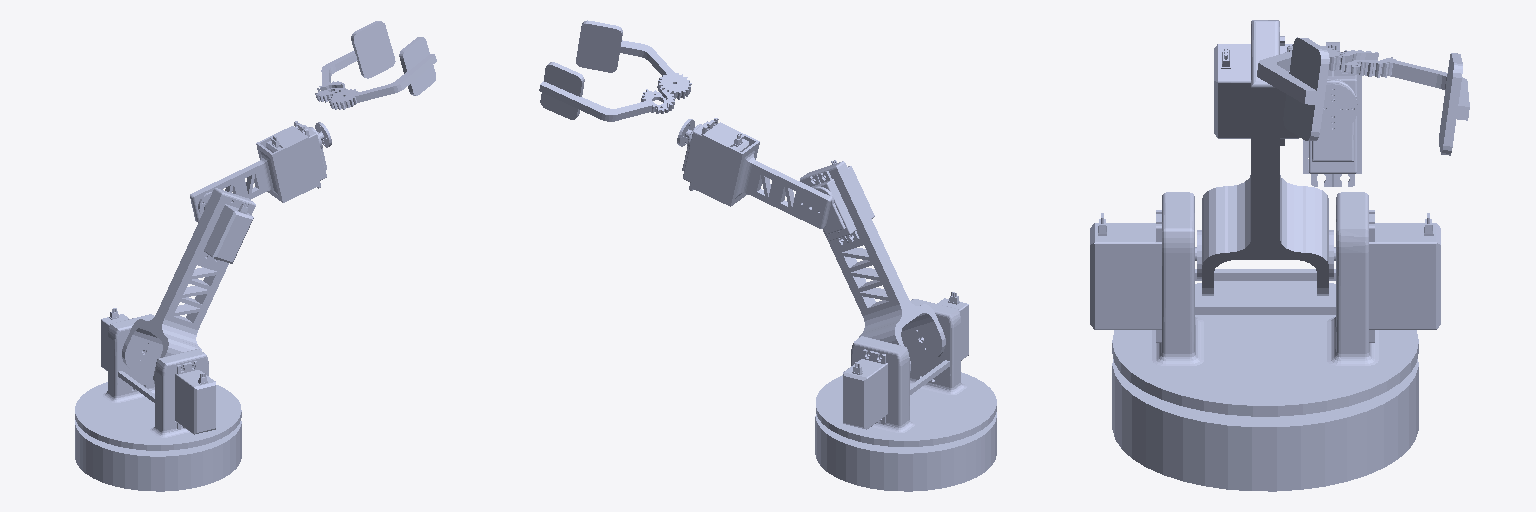
robot.urdf — URDF_Final_Assembly:
<?xml version="1.0" encoding="utf-8"?>
<!-- This URDF was automatically created by SolidWorks to URDF Exporter! Originally created by Stephen Brawner (brawner@gmail.com) 
     Commit Version: 1.6.0-4-g7f85cfe  Build Version: 1.6.7995.38578
     For more information, please see http://wiki.ros.org/sw_urdf_exporter -->
<robot
  name="URDF_Final_Assembly">
  <link
    name="Fixed_Base">
    <inertial>
      <origin
        xyz="7.12857296924816E-18 2.11519513285623E-18 -0.015"
        rpy="0 0 0" />
      <mass
        value="0.398196868842506" />
      <inertia
        ixx="0.000450460207878085"
        ixy="-1.35525271560688E-20"
        ixz="6.18071095602212E-21"
        iyy="0.000450460207878085"
        iyz="-7.16361577712324E-20"
        izz="0.000841190885429794" />
    </inertial>
    <visual>
      <origin
        xyz="0 0 0"
        rpy="0 0 0" />
      <geometry>
        <mesh
          filename="package://URDF_Final_Assembly/meshes/Fixed_Base.STL" />
      </geometry>
      <material
        name="">
        <color
          rgba="0.792156862745098 0.819607843137255 0.933333333333333 1" />
      </material>
    </visual>
    <collision>
      <origin
        xyz="0 0 0"
        rpy="0 0 0" />
      <geometry>
        <mesh
          filename="package://URDF_Final_Assembly/meshes/Fixed_Base.STL" />
      </geometry>
    </collision>
  </link>
  <link
    name="Roatation_base">
    <inertial>
      <origin
        xyz="9.15046193830477E-05 6.60349848650291E-07 0.0183909853813376"
        rpy="0 0 0" />
      <mass
        value="0.184376683448237" />
      <inertia
        ixx="0.000203382678384883"
        ixy="-2.27637752009022E-09"
        ixz="3.04514054743046E-09"
        iyy="0.000139417520802741"
        iyz="-6.05563179975047E-09"
        izz="0.000228863207209811" />
    </inertial>
    <visual>
      <origin
        xyz="0 0 0"
        rpy="0 0 0" />
      <geometry>
        <mesh
          filename="package://URDF_Final_Assembly/meshes/Roatation_base.STL" />
      </geometry>
      <material
        name="">
        <color
          rgba="0.792156862745098 0.819607843137255 0.933333333333333 1" />
      </material>
    </visual>
    <collision>
      <origin
        xyz="0 0 0"
        rpy="0 0 0" />
      <geometry>
        <mesh
          filename="package://URDF_Final_Assembly/meshes/Roatation_base.STL" />
      </geometry>
    </collision>
  </link>
  <joint
    name="Base_rotation"
    type="continuous">
    <origin
      xyz="0 0 0.01"
      rpy="0 0 0" />
    <parent
      link="Fixed_Base" />
    <child
      link="Roatation_base" />
    <axis
      xyz="0 0 1" />
  </joint>
  <link
    name="Link_1_L">
    <inertial>
      <origin
        xyz="-9.53270380327151E-05 -0.000608635224018405 0.0768591543857318"
        rpy="0 0 0" />
      <mass
        value="0.0888087829261735" />
      <inertia
        ixx="0.000124955602065193"
        ixy="-1.20396286493738E-13"
        ixz="-3.89020393064057E-08"
        iyy="0.000118594996391444"
        iyz="-2.83879227798698E-07"
        izz="2.19978266988829E-05" />
    </inertial>
    <visual>
      <origin
        xyz="0 0 0"
        rpy="0 0 0" />
      <geometry>
        <mesh
          filename="package://URDF_Final_Assembly/meshes/Link_1_L.STL" />
      </geometry>
      <material
        name="">
        <color
          rgba="0.792156862745098 0.819607843137255 0.933333333333333 1" />
      </material>
    </visual>
    <collision>
      <origin
        xyz="0 0 0"
        rpy="0 0 0" />
      <geometry>
        <mesh
          filename="package://URDF_Final_Assembly/meshes/Link_1_L.STL" />
      </geometry>
    </collision>
  </link>
  <joint
    name="Base_Link_1"
    type="revolute">
    <origin
      xyz="0.00025 -2.1548E-05 0.04075"
      rpy="0 0.50063 0" />
    <parent
      link="Roatation_base" />
    <child
      link="Link_1_L" />
    <axis
      xyz="0 -1 0" />
    <limit
      lower="0"
      upper="0"
      effort="0"
      velocity="0" />
  </joint>
  <link
    name="Link_2_U">
    <inertial>
      <origin
        xyz="-0.000315789922345461 0.000159021428676138 0.070421135161017"
        rpy="0 0 0" />
      <mass
        value="0.0532416873658442" />
      <inertia
        ixx="2.42137687173925E-05"
        ixy="-4.64608051219426E-13"
        ixz="2.88601367853457E-07"
        iyy="2.97166605185833E-05"
        iyz="1.11658609785528E-12"
        izz="9.75155002154079E-06" />
    </inertial>
    <visual>
      <origin
        xyz="0 0 0"
        rpy="0 0 0" />
      <geometry>
        <mesh
          filename="package://URDF_Final_Assembly/meshes/Link_2_U.STL" />
      </geometry>
      <material
        name="">
        <color
          rgba="0.792156862745098 0.819607843137255 0.933333333333333 1" />
      </material>
    </visual>
    <collision>
      <origin
        xyz="0 0 0"
        rpy="0 0 0" />
      <geometry>
        <mesh
          filename="package://URDF_Final_Assembly/meshes/Link_2_U.STL" />
      </geometry>
    </collision>
  </link>
  <joint
    name="Link_1_2"
    type="revolute">
    <origin
      xyz="-0.00025 0.028422 0.12675"
      rpy="0 0.84738 0" />
    <parent
      link="Link_1_L" />
    <child
      link="Link_2_U" />
    <axis
      xyz="0 -1 0" />
    <limit
      lower="0"
      upper="0"
      effort="0"
      velocity="0" />
  </joint>
  <link
    name="Link_3">
    <inertial>
      <origin
        xyz="-0.00186895515774904 -0.00653817867632661 0.0155170752178835"
        rpy="0 0 0" />
      <mass
        value="0.0543653530985711" />
      <inertia
        ixx="8.66634355387426E-06"
        ixy="5.32077785498565E-07"
        ixz="6.11282948807394E-08"
        iyy="1.32842498723592E-05"
        iyz="8.97329317555224E-07"
        izz="1.56626955706071E-05" />
    </inertial>
    <visual>
      <origin
        xyz="0 0 0"
        rpy="0 0 0" />
      <geometry>
        <mesh
          filename="package://URDF_Final_Assembly/meshes/Link_3.STL" />
      </geometry>
      <material
        name="">
        <color
          rgba="0.792156862745098 0.819607843137255 0.933333333333333 1" />
      </material>
    </visual>
    <collision>
      <origin
        xyz="0 0 0"
        rpy="0 0 0" />
      <geometry>
        <mesh
          filename="package://URDF_Final_Assembly/meshes/Link_3.STL" />
      </geometry>
    </collision>
  </link>
  <joint
    name="Link_2_3"
    type="revolute">
    <origin
      xyz="-0.01025 0.00025 0.1114"
      rpy="0 0 -1.5898" />
    <parent
      link="Link_2_U" />
    <child
      link="Link_3" />
    <axis
      xyz="0 0 1" />
    <limit
      lower="0"
      upper="0"
      effort="0"
      velocity="0" />
  </joint>
  <link
    name="Gripper_1">
    <inertial>
      <origin
        xyz="0.00191549512313131 0.0445656558639719 -1.4466192133078E-10"
        rpy="0 0 0" />
      <mass
        value="0.00998252498893378" />
      <inertia
        ixx="8.7682448898209E-06"
        ixy="5.95374554740872E-07"
        ixz="4.31161303318145E-16"
        iyy="1.16509446310545E-06"
        iyz="-5.07271473675273E-14"
        izz="8.68309716968567E-06" />
    </inertial>
    <visual>
      <origin
        xyz="0 0 0"
        rpy="0 0 0" />
      <geometry>
        <mesh
          filename="package://URDF_Final_Assembly/meshes/Gripper_1.STL" />
      </geometry>
      <material
        name="">
        <color
          rgba="0.792156862745098 0.819607843137255 0.933333333333333 1" />
      </material>
    </visual>
    <collision>
      <origin
        xyz="0 0 0"
        rpy="0 0 0" />
      <geometry>
        <mesh
          filename="package://URDF_Final_Assembly/meshes/Gripper_1.STL" />
      </geometry>
    </collision>
  </link>
  <joint
    name="Link_3_Gripper_1"
    type="revolute">
    <origin
      xyz="0.0083798 -0.026124 0.0185"
      rpy="1.5708 0.084397 -0.11412" />
    <parent
      link="Link_3" />
    <child
      link="Gripper_1" />
    <axis
      xyz="0 0 -1" />
    <limit
      lower="0"
      upper="0"
      effort="0"
      velocity="0" />
  </joint>
  <link
    name="Gripper_2">
    <inertial>
      <origin
        xyz="-0.055517438283042 0.0358301593245777 0.000229310918389791"
        rpy="0 0 0" />
      <mass
        value="0.00944467702037242" />
      <inertia
        ixx="6.23666339647513E-06"
        ixy="2.918808483816E-06"
        ixz="2.2047625915123E-08"
        iyy="2.93275212222074E-06"
        iyz="-2.52284325732462E-08"
        izz="7.92249481019613E-06" />
    </inertial>
    <visual>
      <origin
        xyz="0 0 0"
        rpy="0 0 0" />
      <geometry>
        <mesh
          filename="package://URDF_Final_Assembly/meshes/Gripper_2.STL" />
      </geometry>
      <material
        name="">
        <color
          rgba="0.792156862745098 0.819607843137255 0.933333333333333 1" />
      </material>
    </visual>
    <collision>
      <origin
        xyz="0 0 0"
        rpy="0 0 0" />
      <geometry>
        <mesh
          filename="package://URDF_Final_Assembly/meshes/Gripper_2.STL" />
      </geometry>
    </collision>
  </link>
  <joint
    name="Link_3_Gripper__2"
    type="revolute">
    <origin
      xyz="0.0083798 -0.026124 0.0185"
      rpy="1.5708 0.084397 -0.11412" />
    <parent
      link="Link_3" />
    <child
      link="Gripper_2" />
    <axis
      xyz="0 0 1" />
    <limit
      lower="0"
      upper="0"
      effort="0"
      velocity="0" />
  </joint>
</robot>

--- Render facts (derived) ---
Views: 3 orthographic renders of the robot side by side, from view 1: azimuth 30°, elevation 25°; view 2: azimuth 150°, elevation 25°; view 3: azimuth 270°, elevation 25°.
Model URDF_Final_Assembly with 7 links and 6 joints (5 revolute, 1 continuous), rooted at Fixed_Base, posed every joint at zero.
Visible links, largest first — view 1: Roatation_base, Link_1_L, Fixed_Base, Link_2_U, Gripper_2, Gripper_1; view 2: Roatation_base, Link_1_L, Fixed_Base, Link_2_U, Gripper_2, Gripper_1; view 3: Roatation_base, Fixed_Base, Link_1_L, Link_2_U, Gripper_1, Gripper_2.
Boxes of the visible links, x1=… form: Roatation_base: x1=75, y1=308, x2=241, y2=450; Link_1_L: x1=122, y1=188, x2=255, y2=383; Fixed_Base: x1=75, y1=420, x2=241, y2=491; Link_2_U: x1=190, y1=121, x2=331, y2=222; Gripper_2: x1=315, y1=21, x2=395, y2=102; Gripper_1: x1=329, y1=37, x2=436, y2=109; Roatation_base: x1=816, y1=292, x2=996, y2=446; Link_1_L: x1=800, y1=160, x2=945, y2=372; Fixed_Base: x1=815, y1=412, x2=996, y2=491; Link_2_U: x1=677, y1=118, x2=831, y2=228; Gripper_2: x1=539, y1=62, x2=674, y2=121; Gripper_1: x1=576, y1=20, x2=691, y2=99; Roatation_base: x1=1090, y1=192, x2=1440, y2=416; Fixed_Base: x1=1112, y1=359, x2=1418, y2=491; Link_1_L: x1=1202, y1=20, x2=1328, y2=295; Link_2_U: x1=1303, y1=42, x2=1361, y2=186; Gripper_1: x1=1257, y1=37, x2=1341, y2=140; Gripper_2: x1=1340, y1=50, x2=1469, y2=155.
Size in the robot's own frame: 0.3262 by 0.161 by 0.2926 metres.
Meshes: 7 distinct files referenced, 6 mesh visuals loaded (6 binary STL); not drawn: 1 (reference not matched to a file when rendering).
